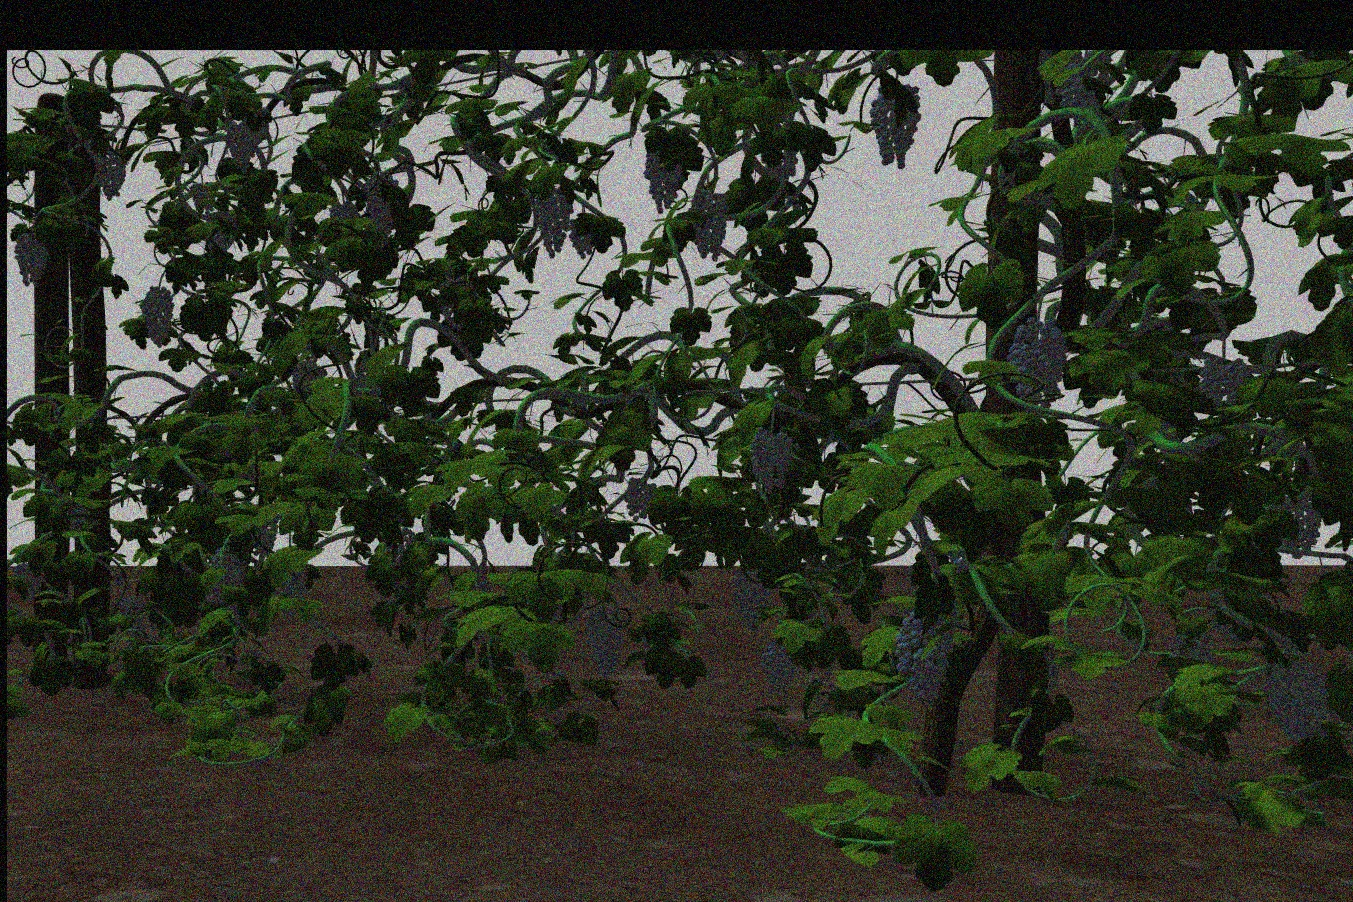grape: (1262, 660, 1330, 748), (894, 613, 956, 706), (1006, 318, 1065, 403), (866, 84, 922, 169), (530, 188, 574, 259), (729, 563, 773, 632), (748, 427, 793, 493), (1276, 489, 1320, 558), (1198, 355, 1252, 409), (689, 190, 728, 263), (584, 609, 623, 680), (641, 148, 682, 212), (224, 118, 267, 174), (362, 175, 401, 234), (139, 285, 174, 347), (204, 549, 241, 605), (759, 642, 796, 697), (272, 562, 309, 615), (14, 231, 47, 287), (619, 477, 658, 521), (95, 151, 126, 205), (117, 595, 146, 643), (11, 562, 43, 601)
